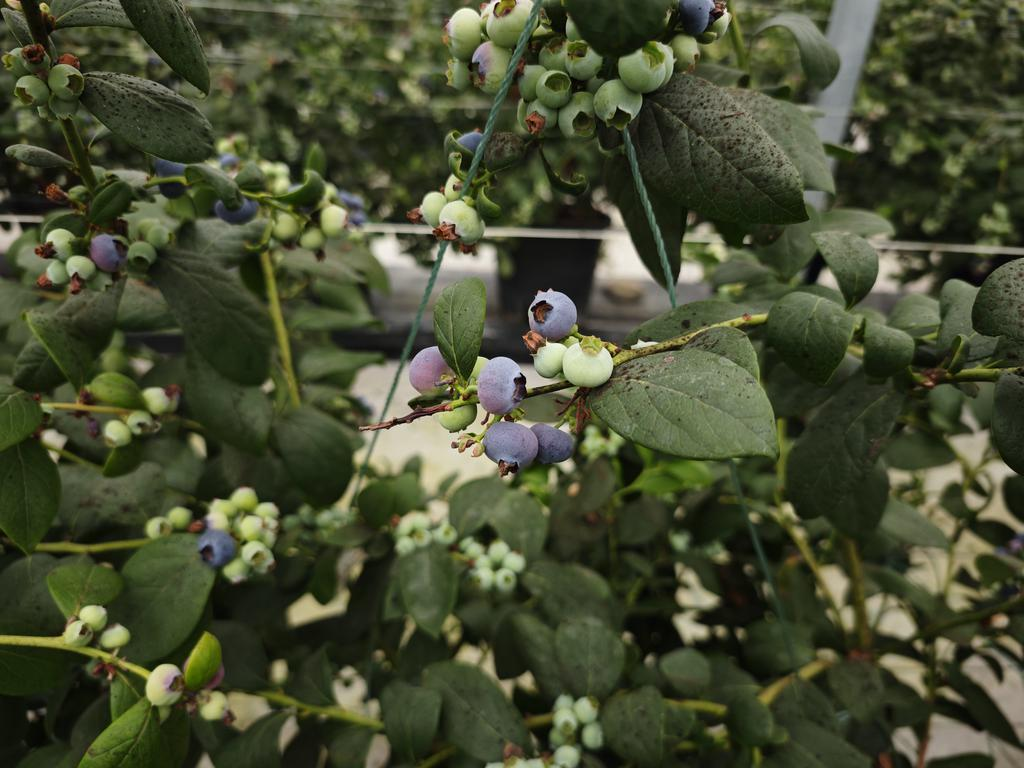RipeBlueBerry: (484, 340, 529, 412), (408, 341, 454, 404)
Semi-RipeBlueBerry: (566, 343, 620, 388)
UnripeBlueBerry: (598, 79, 646, 134), (438, 194, 493, 240)
